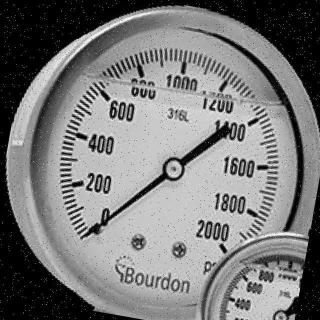gauge: (29, 6, 295, 305), (202, 231, 320, 320), (74, 209, 116, 253), (203, 225, 240, 265), (161, 156, 187, 182), (75, 222, 97, 246), (271, 308, 290, 320)
